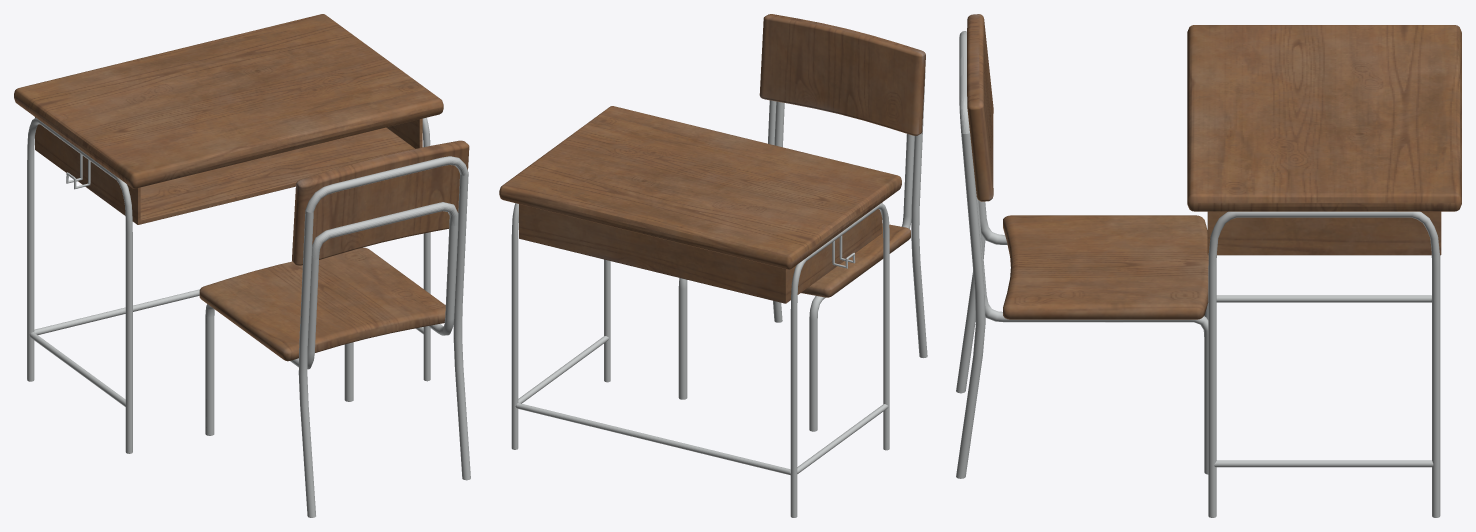
File: table-chair.glb
3 views of the same model, side by side, from view 1: azimuth 30°, elevation 25°; view 2: azimuth 150°, elevation 25°; view 3: azimuth 270°, elevation 25° (orthographic). The views are drawn at different scales.
Visible parts, largest first — view 1: Table_Geo, Chair_Geo; view 2: Table_Geo, Chair_Geo; view 3: Table_Geo, Chair_Geo.
Boxes of the visible parts, x1,y1,x2,y2 form: Table_Geo: (14,14,443,453); Chair_Geo: (199,140,470,517); Table_Geo: (499,106,901,517); Chair_Geo: (678,14,927,431); Table_Geo: (1187,25,1461,517); Chair_Geo: (956,14,1208,478).
Size of the model in its own units: 0.072 by 0.0728 by 0.088.
1 material, 1 textured.
